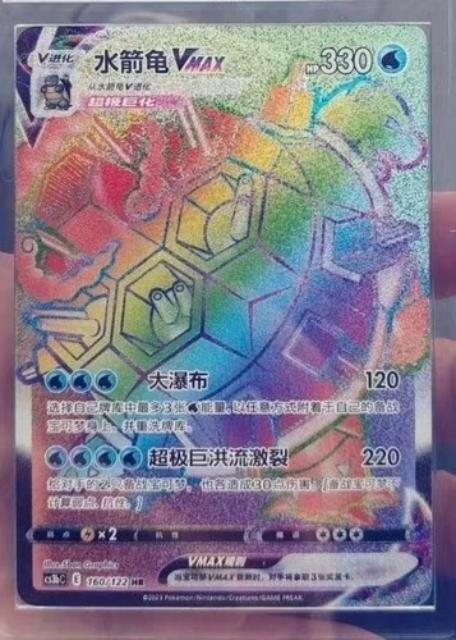Card: (10, 19, 439, 612)
Name: (90, 40, 231, 79)
